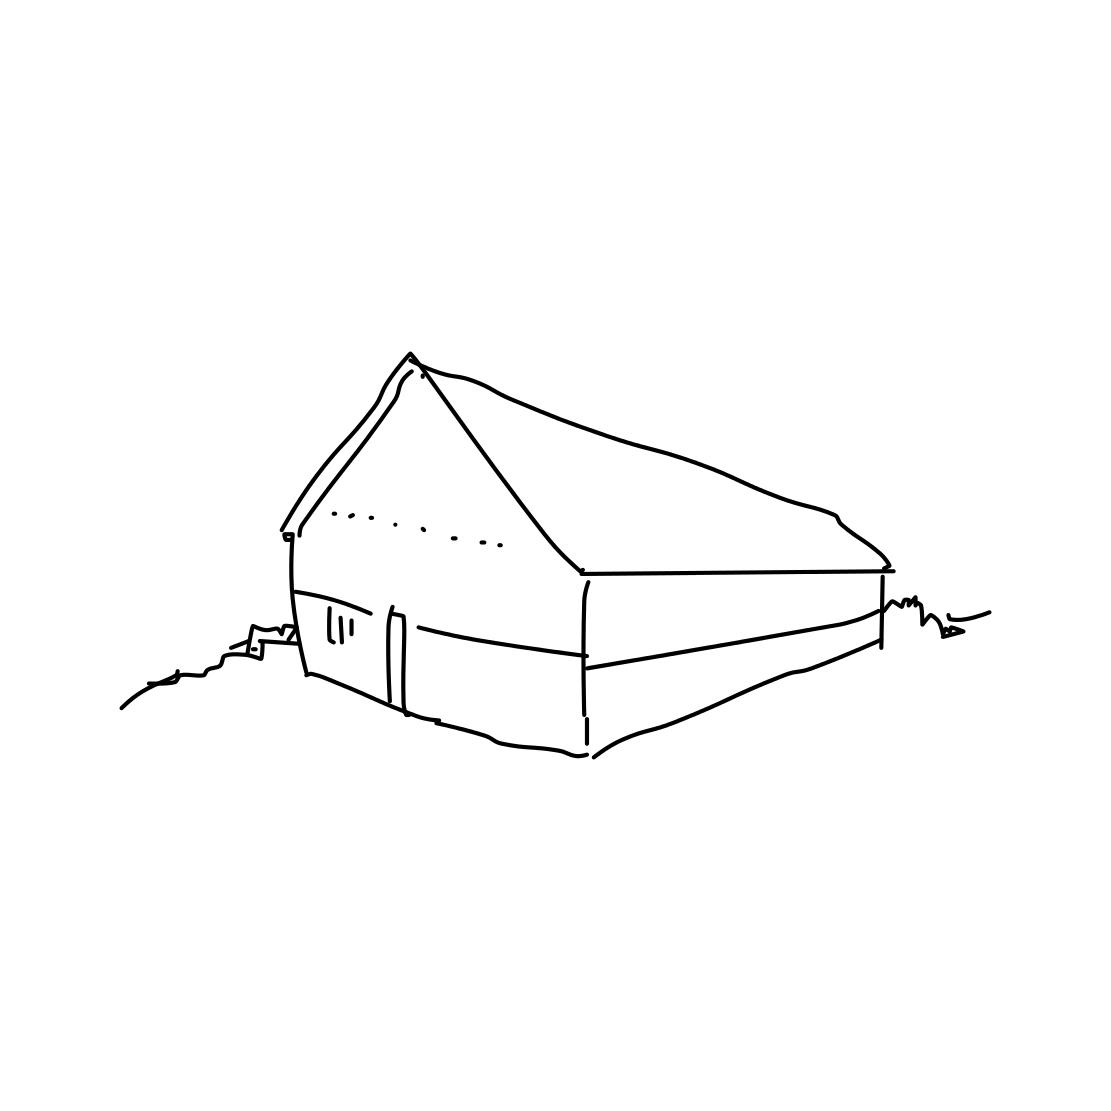House: (259, 317, 923, 764)
